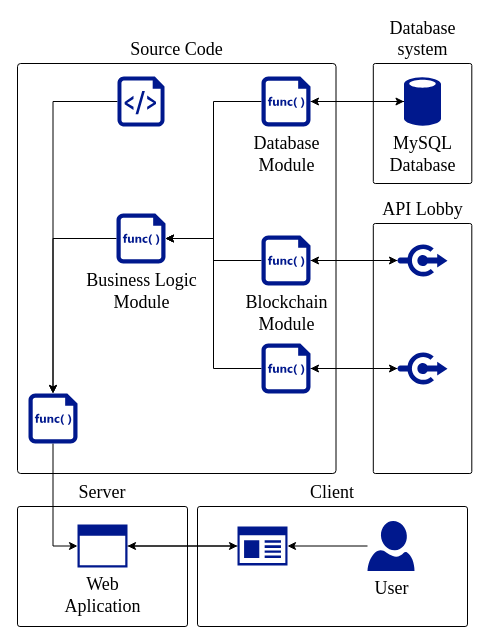
This 490x644 diagram has some shape labels left out. Each missing label, with the centre of its shape:
"Blockbook API" goes at (x=422, y=260).
"Front End Files" goes at (x=140, y=101).
"IPFS API" goes at (x=422, y=368).
"Storage Module" goes at (x=285, y=368).
"Web Explorer" goes at (x=262, y=545).
"Web Server Module" goes at (x=52, y=418).
